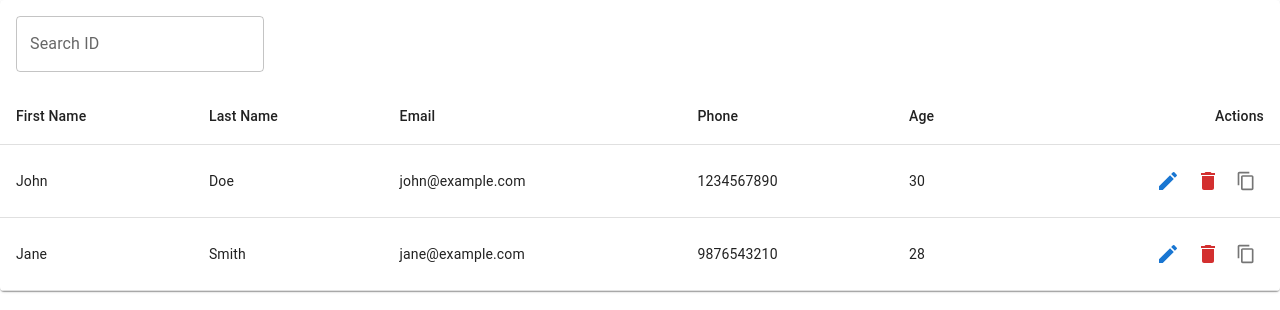
Test case: ContactTable Component › filters contacts based on search input
The width and height of the screenshot is (1280, 310).
Check: the text "John" is shown, box [0,144,193,218]
Check: the text "Jane" is shown, box [0,218,193,290]
Type "1" into the field labelled "Search ID" at [140, 44], box [16,16,264,72]
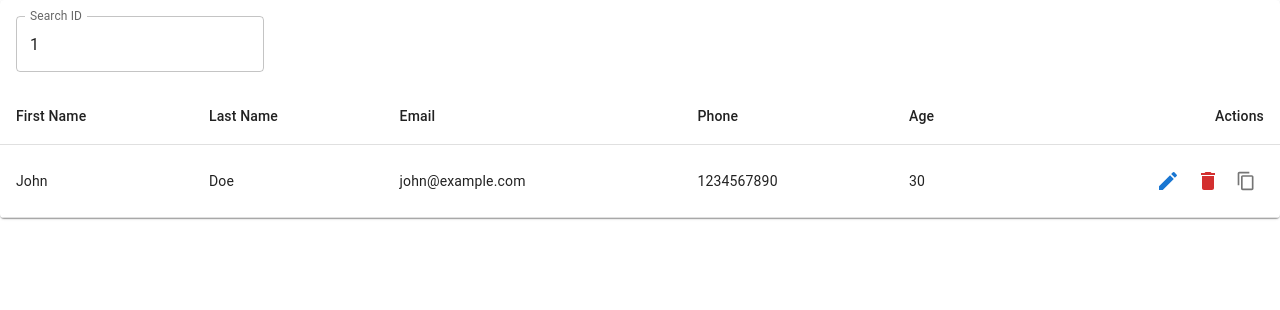
Check: the text "John" is shown, box [0,144,193,218]
Check: the text "Jane" is gone
